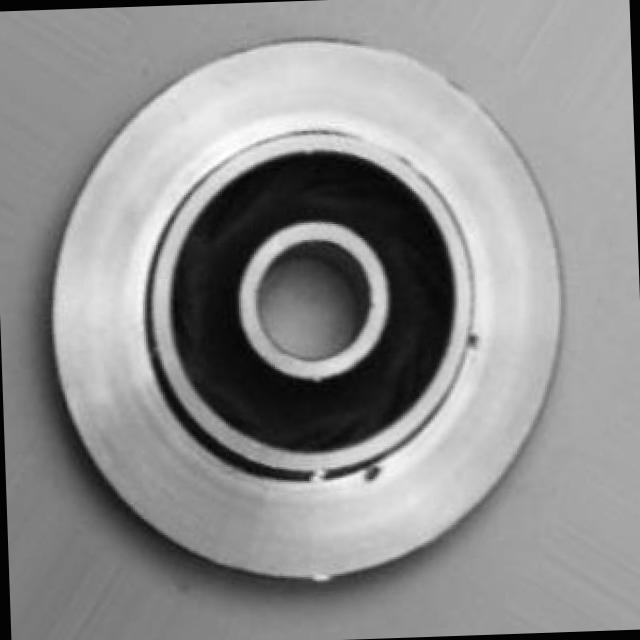Defect: (365, 464, 384, 486)
